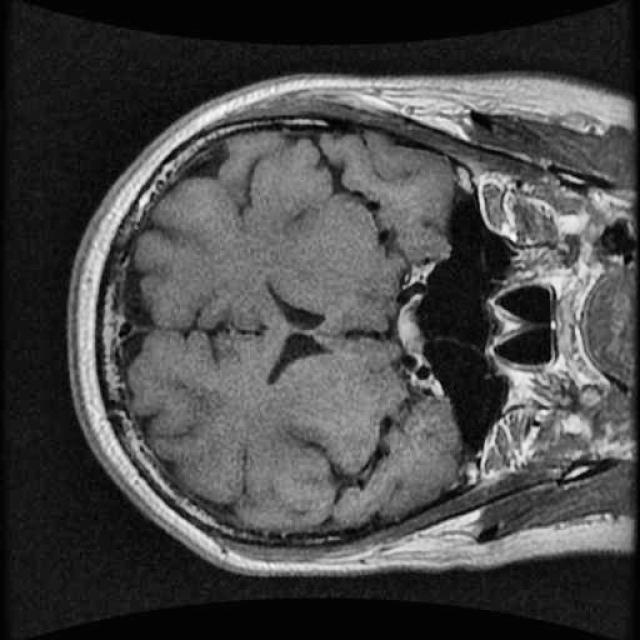Tumor: (391, 288, 441, 368)
